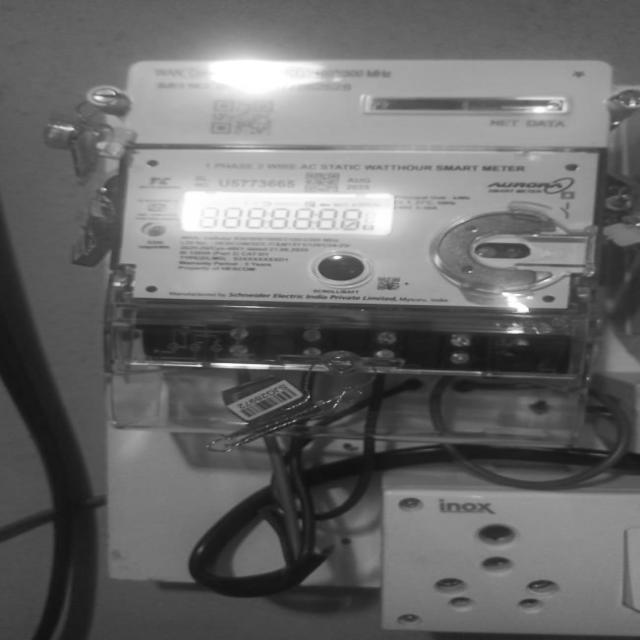meter: (118, 60, 591, 306)
